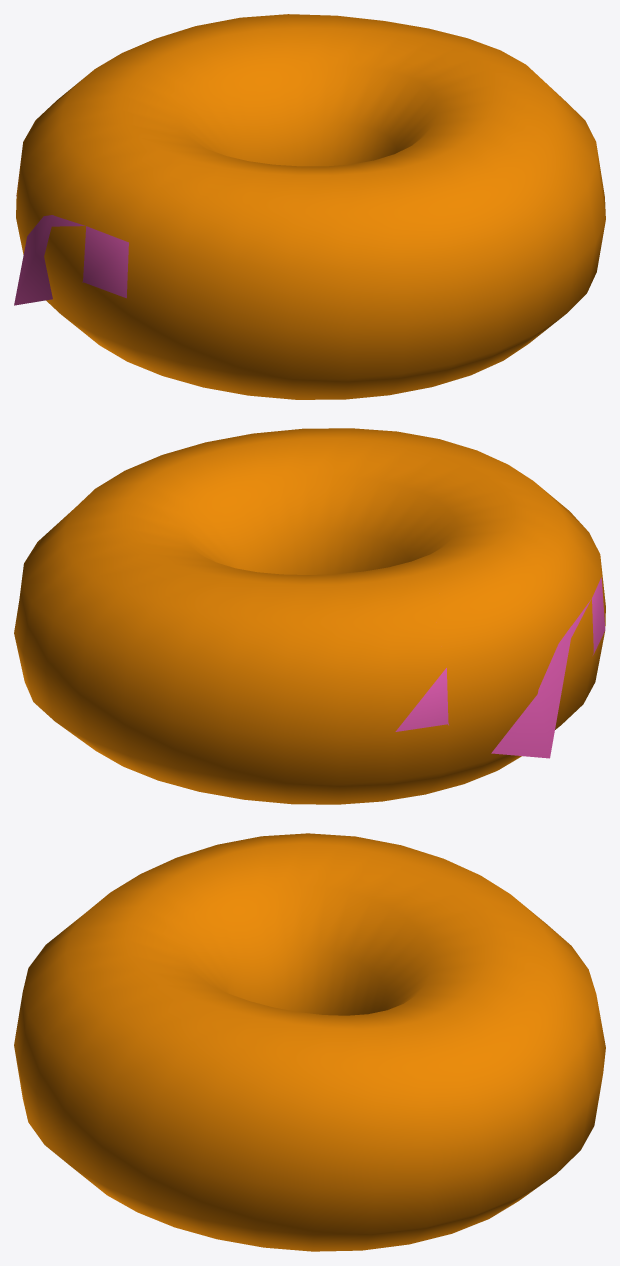
The model's file is DougnutV1.glb.
3 renders of one model, top to bottom at view 1: azimuth 30°, elevation 25°; view 2: azimuth 150°, elevation 25°; view 3: azimuth 270°, elevation 25°, orthographic. The views are drawn at different scales.
Visible parts, largest first — view 1: Donut, Icing; view 2: Donut, Icing; view 3: Donut.
Boxes of the visible parts, x1=… form: Donut: x1=16, y1=14, x2=605, y2=399; Icing: x1=14, y1=179, x2=128, y2=305; Donut: x1=14, y1=428, x2=605, y2=804; Icing: x1=395, y1=577, x2=605, y2=758; Donut: x1=14, y1=833, x2=605, y2=1251.
Size of the model in its own units: 1.3 by 0.5331 by 1.25.
